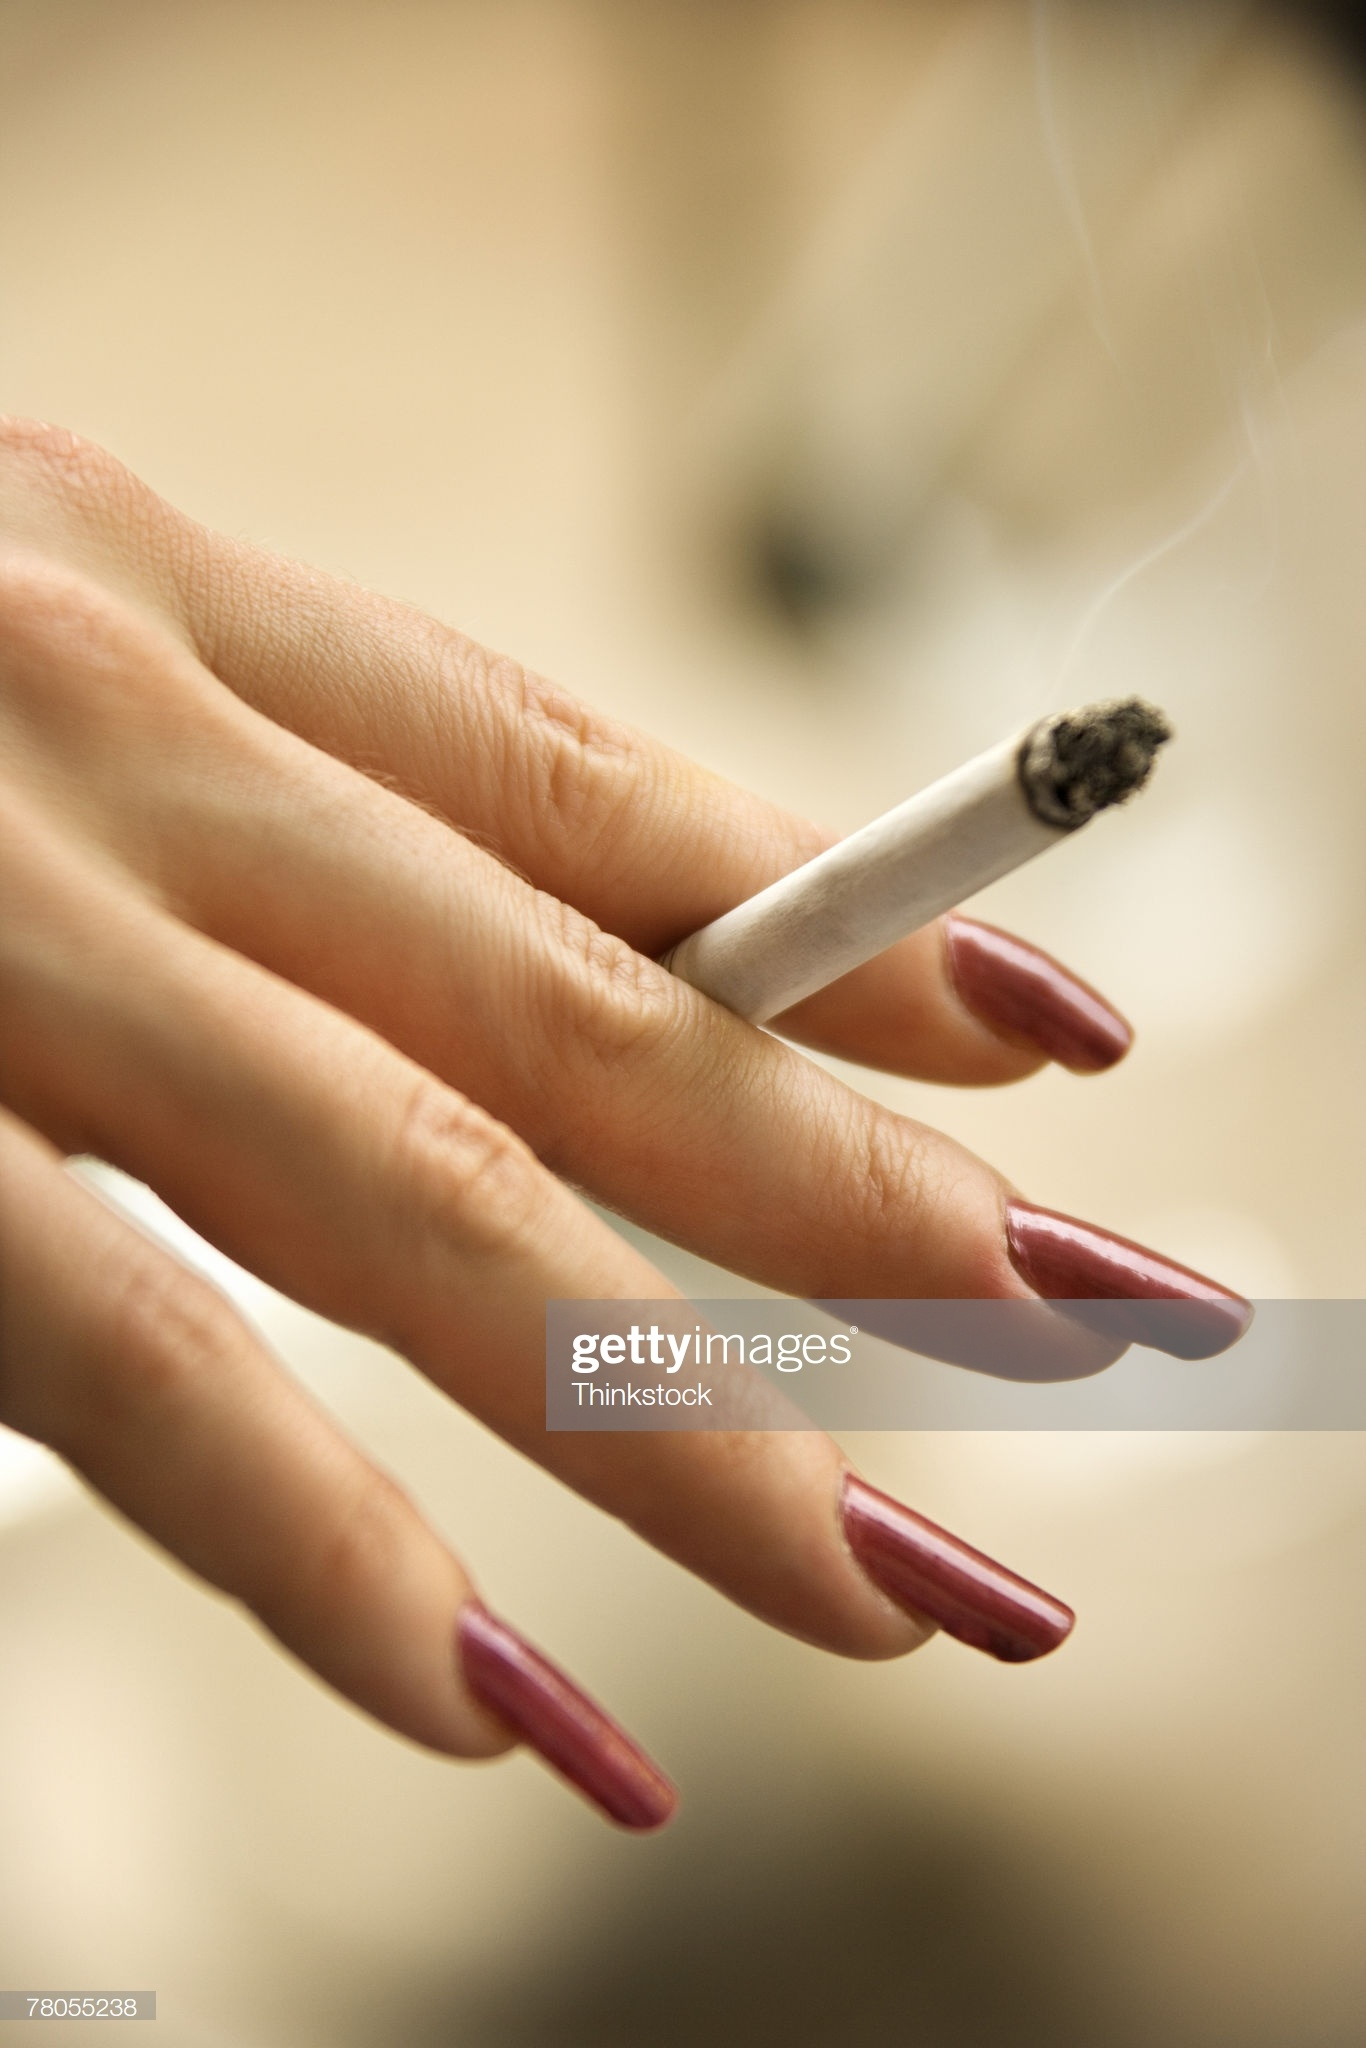sigaretta: (592, 704, 1175, 1083)
